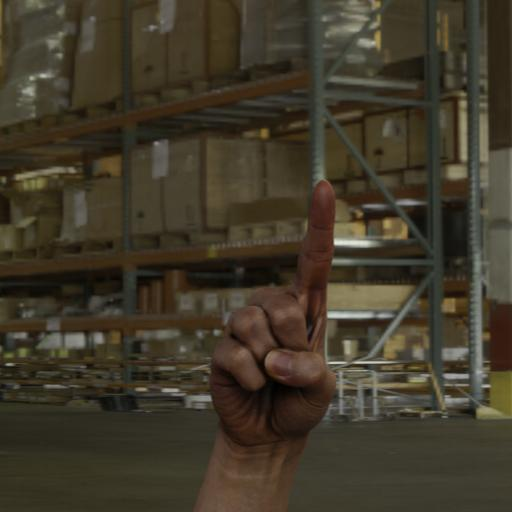Z: (211, 157, 428, 512)
